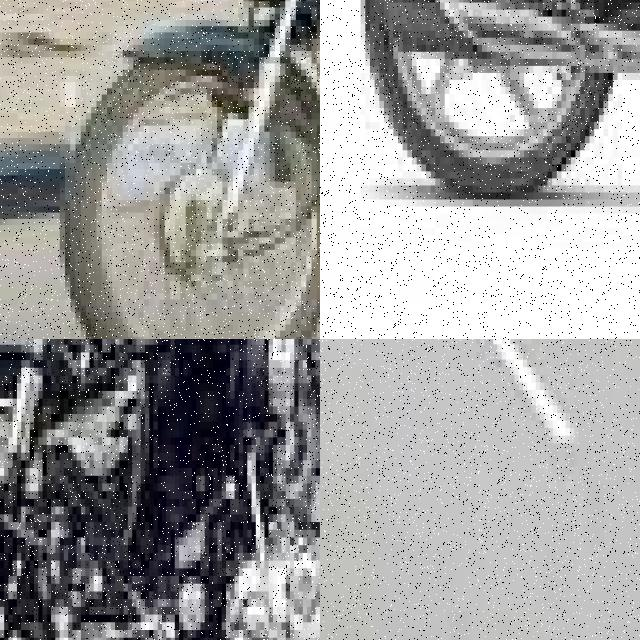bike: (0, 339, 320, 640), (39, 0, 320, 339), (320, 0, 640, 213)
